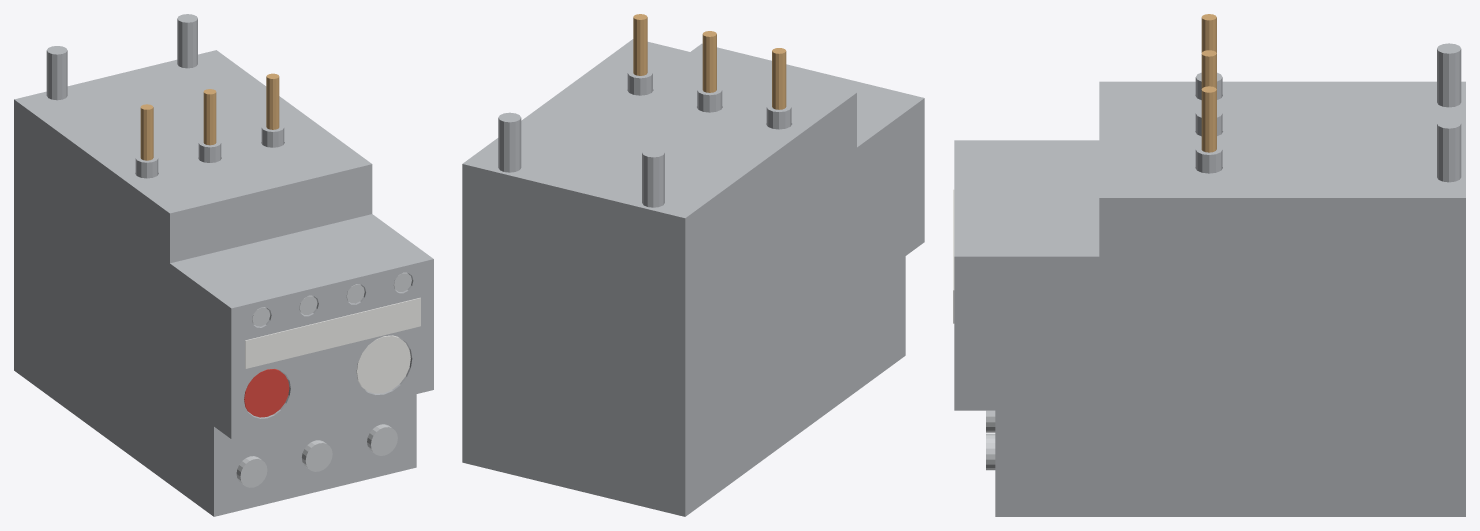
File: overload-9a-1no1nc.glb
The picture shows the model from 3 angles, left to right: view 1: azimuth 30°, elevation 25°; view 2: azimuth 150°, elevation 25°; view 3: azimuth 270°, elevation 25°; orthographic projection. The views are drawn at different scales.
Visible parts, largest first — view 1: body, main, dial-fla, motor, btn-reset, aux; view 2: body, main; view 3: body, main, motor.
Boxes of the visible parts, x1,y1,x2,y2 form: body: (14,14,433,516); main: (135,73,284,178); dial-fla: (356,335,410,393); motor: (236,424,397,487); btn-reset: (244,369,289,417); aux: (252,272,411,326); body: (462,39,924,516); main: (627,14,791,129); body: (953,43,1465,516); main: (1195,14,1222,173); motor: (986,410,995,470).
Size of what is drawn, in the model's own units: 0.045 by 0.0717 by 0.0839.
